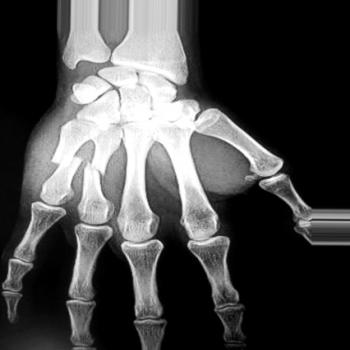Fracture: (81, 160, 115, 186), (46, 147, 85, 168)
